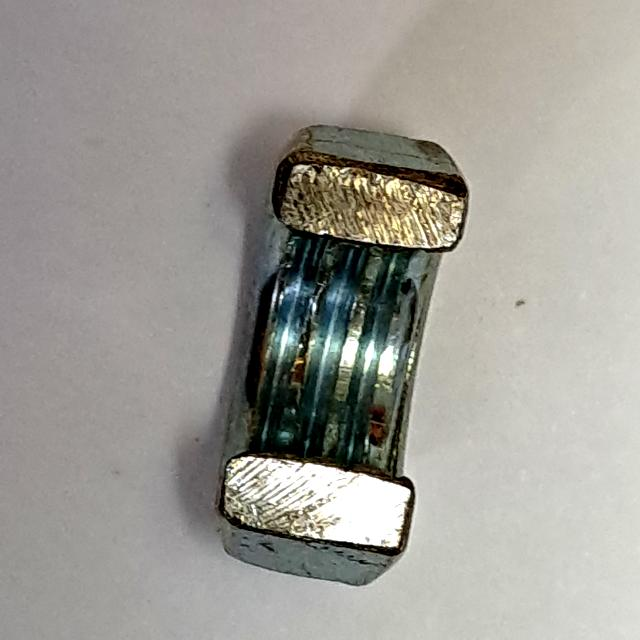Side-Fracture: (203, 109, 479, 597)
